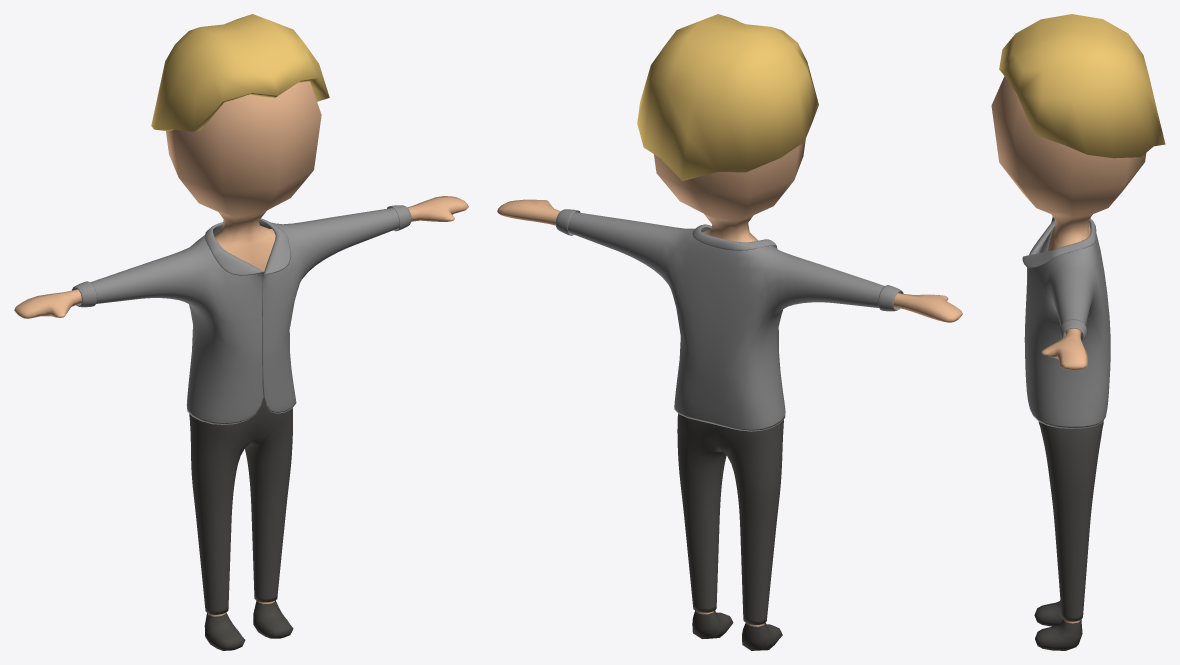
The model's file is body_man4.fbx.
The picture shows the model from 3 angles, left to right: view 1: azimuth 30°, elevation 25°; view 2: azimuth 150°, elevation 25°; view 3: azimuth 270°, elevation 25°; orthographic projection.
Parts seen in each view (by area): view 1: shirt _man4, body_man4, pant_man4, hair_man4, shoe_man4; view 2: shirt _man4, hair_man4, pant_man4, body_man4, shoe_man4; view 3: hair_man4, shirt _man4, body_man4, pant_man4, shoe_man4.
Part boxes in pixels (box(x1,y1,x2,y2)): shirt _man4: box(72, 205, 411, 424); body_man4: box(14, 81, 468, 616); pant_man4: box(189, 399, 292, 614); hair_man4: box(151, 14, 329, 131); shoe_man4: box(204, 600, 293, 650); shirt _man4: box(556, 209, 903, 431); hair_man4: box(637, 14, 818, 181); pant_man4: box(677, 414, 783, 624); body_man4: box(497, 139, 962, 626); shoe_man4: box(692, 610, 782, 650); hair_man4: box(999, 14, 1165, 158); shirt _man4: box(1022, 216, 1110, 428); body_man4: box(991, 76, 1146, 623); pant_man4: box(1038, 420, 1103, 621); shoe_man4: box(1034, 600, 1082, 650).
Size of the model in its own units: 156 by 202 by 52.33.
